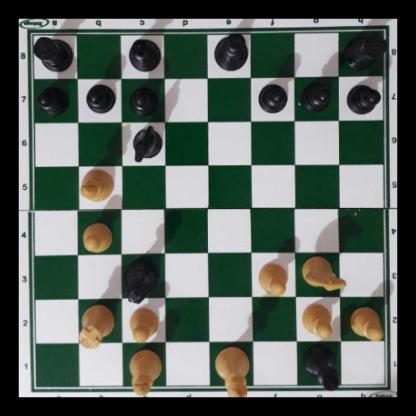black-bishop: (302, 344, 341, 391), (125, 38, 163, 72)
black-king: (212, 31, 249, 71)
black-knight: (130, 124, 163, 163)
black-pawn: (346, 82, 379, 114), (257, 81, 287, 112), (37, 84, 68, 113), (302, 80, 331, 111), (85, 82, 113, 113), (129, 84, 157, 115)
black-queen: (123, 256, 160, 306)
black-rook: (342, 32, 388, 71), (31, 33, 73, 72)
white-bishop: (129, 347, 161, 395), (79, 169, 114, 202)
white-knight: (301, 254, 347, 291)
white-pawn: (300, 301, 334, 338), (127, 306, 159, 343), (349, 305, 383, 339), (257, 261, 287, 294), (81, 223, 112, 253)
white-queen: (214, 346, 250, 397)
white-rook: (79, 303, 115, 347)
